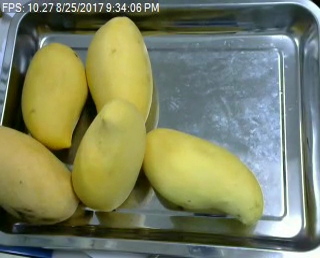Mango: (142, 128, 263, 225), (71, 100, 144, 211), (0, 124, 79, 224), (86, 17, 151, 127), (20, 42, 86, 148)
